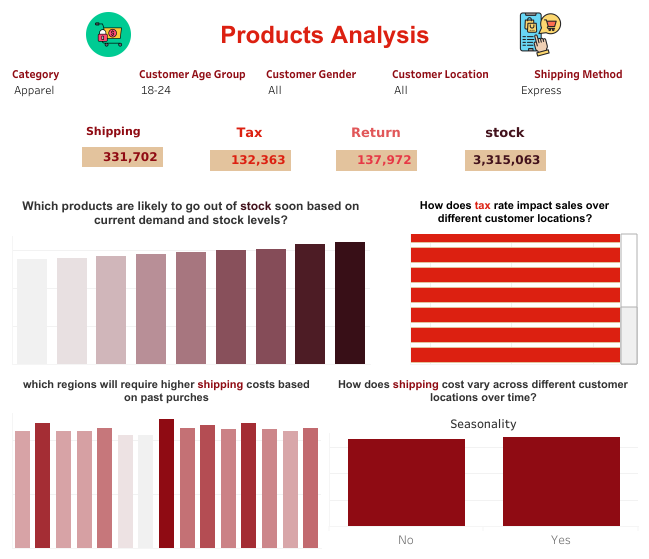

Layout of this report page (visuals, bound fields, positions):
{"tool":"tableau","page":{"name":"Dashboard 1","canvas":[650,860],"ordinal":0},"visuals":[{"type":"image","param":"C:/Users/DELL/Downloads/secure-shopping.png","box":[8,8.6,83,82.1]},{"type":"title","box":[91,8.6,499,82.1]},{"type":"image","param":"C:/Users/DELL/Downloads/mobile-shopping.png","box":[590,8.6,52,82.1]},{"type":"filter","title":"shipping cost","param":"[federated.0p9384c13e4w8d157gvy61ycv676].[none:Category:nk]","box":[8,90.7,126.8,65.4]},{"type":"filter","title":"shipping cost","param":"[federated.0p9384c13e4w8d157gvy61ycv676].[none:Customer Age Group:nk]","box":[134.8,90.7,126.8,65.4]},{"type":"filter","title":"shipping cost","param":"[federated.0p9384c13e4w8d157gvy61ycv676].[none:Customer Gender:nk]","box":[261.6,90.7,126.8,65.4]},{"type":"filter","title":"shipping cost","param":"[federated.0p9384c13e4w8d157gvy61ycv676].[none:Customer Location:nk]","box":[388.4,90.7,126.8,65.4]},{"type":"filter","title":"shipping cost","param":"[federated.0p9384c13e4w8d157gvy61ycv676].[none:Shipping Method:nk]","box":[515.2,90.7,126.8,65.4]},{"type":"blank","box":[8,156.1,57,68.6]},{"type":"worksheet","title":"shipping cost","mark":"Automatic","box":[65,156.1,129,68.6]},{"type":"worksheet","title":"return rate","mark":"Automatic","box":[194,156.1,123,68.6]},{"type":"worksheet","title":"tax rate","mark":"Automatic","box":[317,156.1,116,68.6]},{"type":"worksheet","title":"stock level","mark":"Automatic","box":[433,156.1,132,68.6]},{"type":"blank","box":[588.2,156.1,53.8,68.6]},{"type":"worksheet","title":"Which products are likely to go out of stock soon based on current demand and stock levels?","mark":"Automatic","rows":["Calculation_1063975461136887810"],"cols":["Product Name"],"box":[8,224.7,337,239.1]},{"type":"worksheet","title":"Shipping cost vs. Location","mark":"Automatic","rows":["Shipping Cost"],"cols":["Seasonality"],"box":[345,224.7,297,239.1]},{"type":"worksheet","title":"which regions will require higher shipping costs based on past purches","mark":"Automatic","rows":["Shipping Cost"],"cols":["Customer Location"],"box":[8,463.8,348,387.6]},{"type":"worksheet","title":"Tax rate vs. Location","mark":"Automatic","rows":["Customer Location"],"cols":["Popularity Index"],"box":[356,463.8,286,387.6]}]}

Visuals, with their boxes on the page's 650x860 design canvas (x1, y1, x2, y2). These are canvas units, not pixel positions in the 649x559 screenshot, which may show the page scaled, cropped or inside an application window:
image: x1=8 y1=9 x2=91 y2=91
title: x1=91 y1=9 x2=590 y2=91
image: x1=590 y1=9 x2=642 y2=91
"shipping cost" filter: x1=8 y1=91 x2=135 y2=156
"shipping cost" filter: x1=135 y1=91 x2=262 y2=156
"shipping cost" filter: x1=262 y1=91 x2=388 y2=156
"shipping cost" filter: x1=388 y1=91 x2=515 y2=156
"shipping cost" filter: x1=515 y1=91 x2=642 y2=156
blank: x1=8 y1=156 x2=65 y2=225
"shipping cost" worksheet: x1=65 y1=156 x2=194 y2=225
"return rate" worksheet: x1=194 y1=156 x2=317 y2=225
"tax rate" worksheet: x1=317 y1=156 x2=433 y2=225
"stock level" worksheet: x1=433 y1=156 x2=565 y2=225
blank: x1=588 y1=156 x2=642 y2=225
"Which products are likely to go out of stock soon based on current demand and stock levels?" worksheet: x1=8 y1=225 x2=345 y2=464
"Shipping cost vs. Location" worksheet: x1=345 y1=225 x2=642 y2=464
"which regions will require higher shipping costs based on past purches" worksheet: x1=8 y1=464 x2=356 y2=851
"Tax rate vs. Location" worksheet: x1=356 y1=464 x2=642 y2=851
